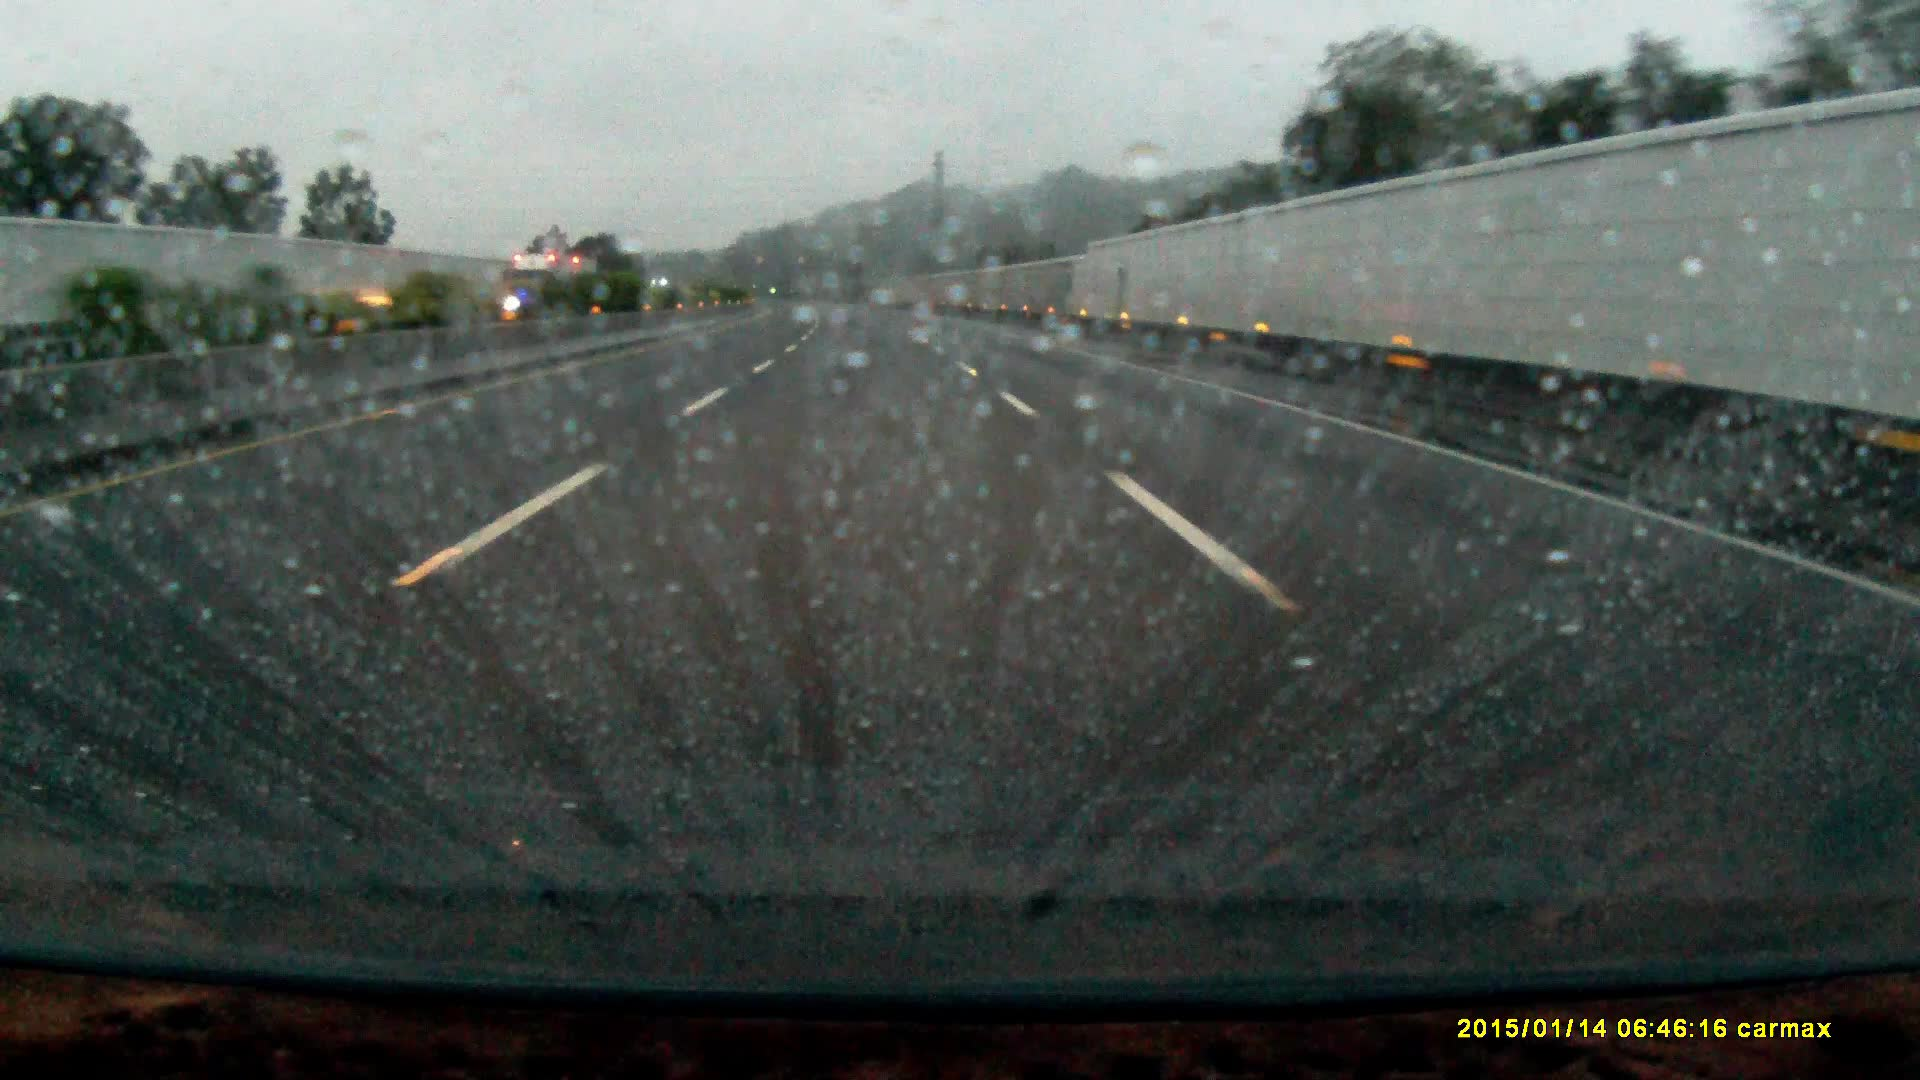vehicle: (502, 253, 597, 313)
